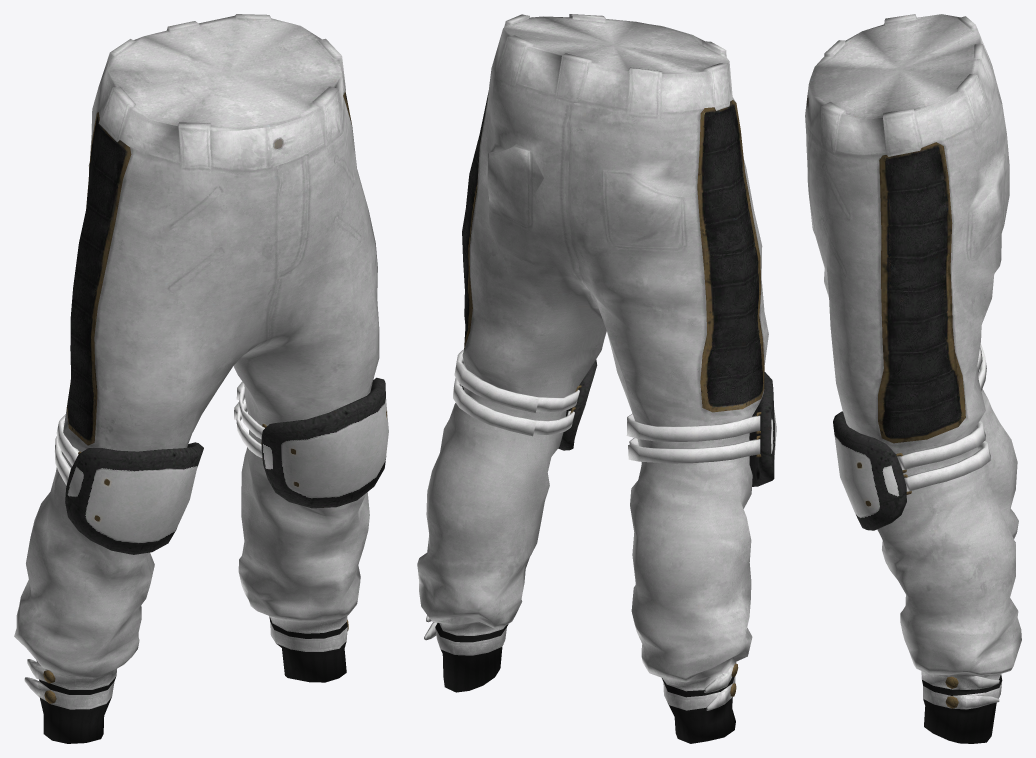
File: SurvivorMale_Legs_Pants_DropCrotchKneepads_LOD0.glb
3 views of the same model, side by side, from view 1: azimuth 30°, elevation 25°; view 2: azimuth 150°, elevation 25°; view 3: azimuth 270°, elevation 25° (orthographic). The views are drawn at different scales.
Parts seen in each view (by area): view 1: Hoodie; view 2: Hoodie; view 3: Hoodie.
Boxes of the visible parts, x1,y1,x2,y2 form: Hoodie: (14, 14, 388, 743); Hoodie: (417, 14, 776, 743); Hoodie: (805, 14, 1021, 743).
Bounding box in the file's own units: 0.5037 × 0.9712 × 0.3015.
Materials: 1 (1 with a texture image).
